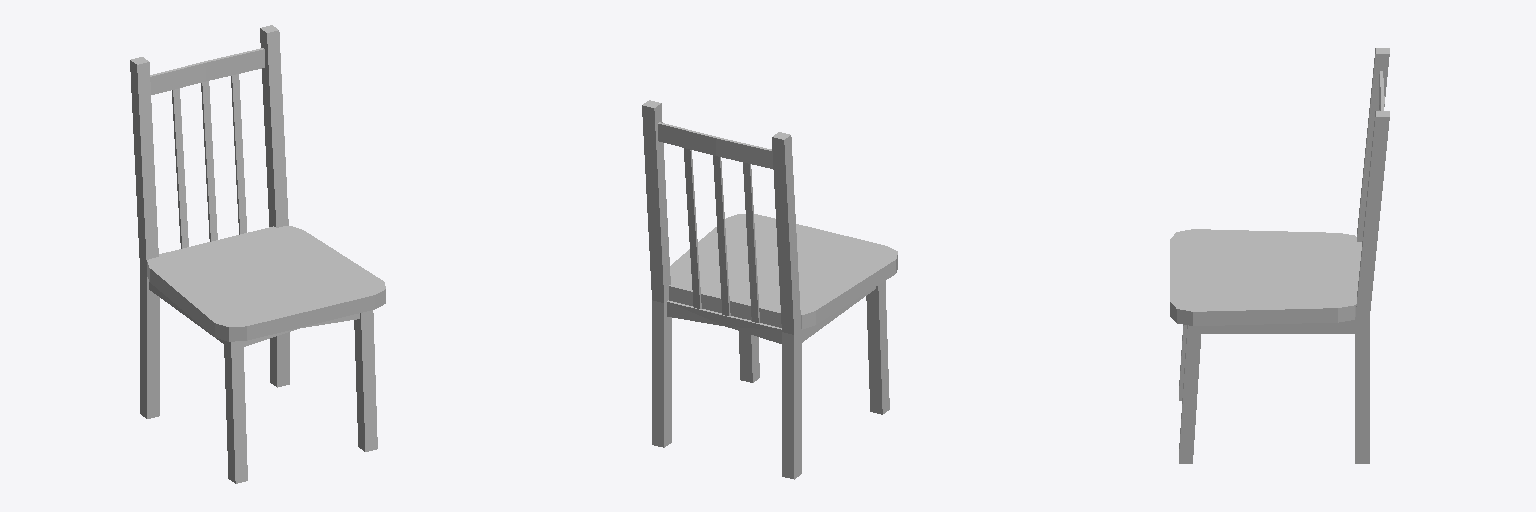
Rendered from Chair01.obj.
3 views of the same model, side by side, from view 1: azimuth 30°, elevation 25°; view 2: azimuth 150°, elevation 25°; view 3: azimuth 270°, elevation 25° (orthographic).
Visible parts, largest first — view 1: Chair1_LOD0_Chair1.005; view 2: Chair1_LOD0_Chair1.005; view 3: Chair1_LOD0_Chair1.005.
Boxes of the visible parts, x1,y1,x2,y2 form: Chair1_LOD0_Chair1.005: [130, 25, 385, 483]; Chair1_LOD0_Chair1.005: [642, 100, 897, 479]; Chair1_LOD0_Chair1.005: [1170, 48, 1389, 463].
Bounding box in the file's own units: 0.5646 × 1.1 × 0.6331.